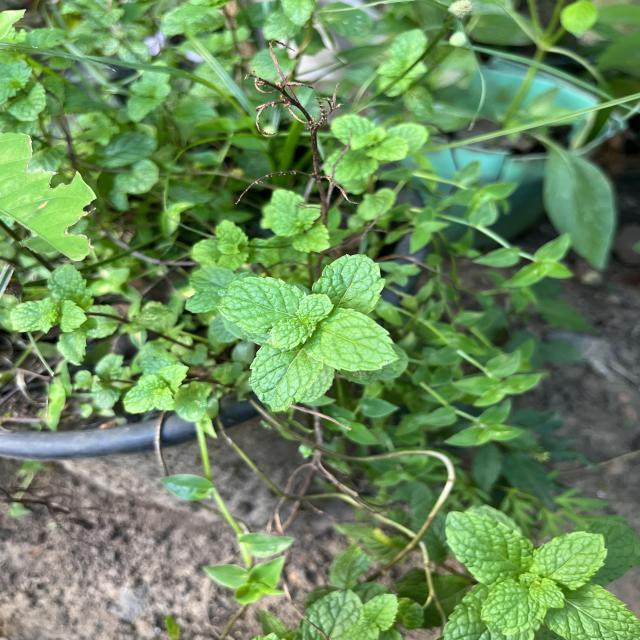Mentha spicata: (304, 306, 401, 374), (250, 338, 325, 413), (216, 275, 308, 334), (311, 253, 387, 314)
